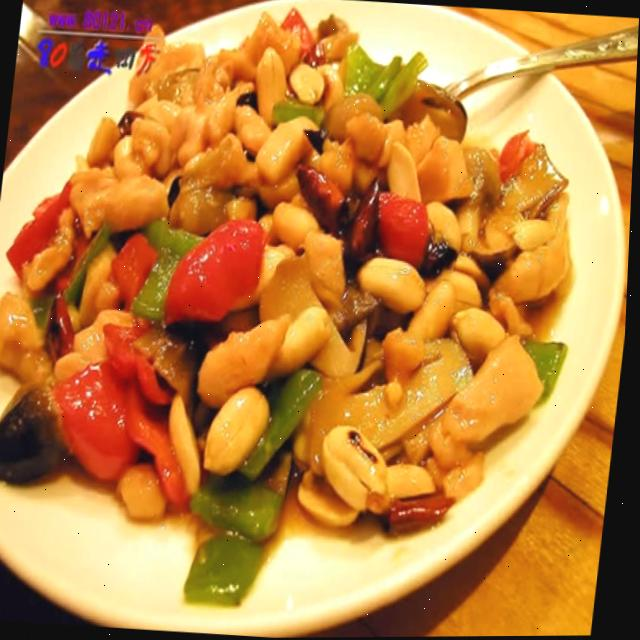鸡肉料理 含炸鸡: (32, 38, 563, 543)
